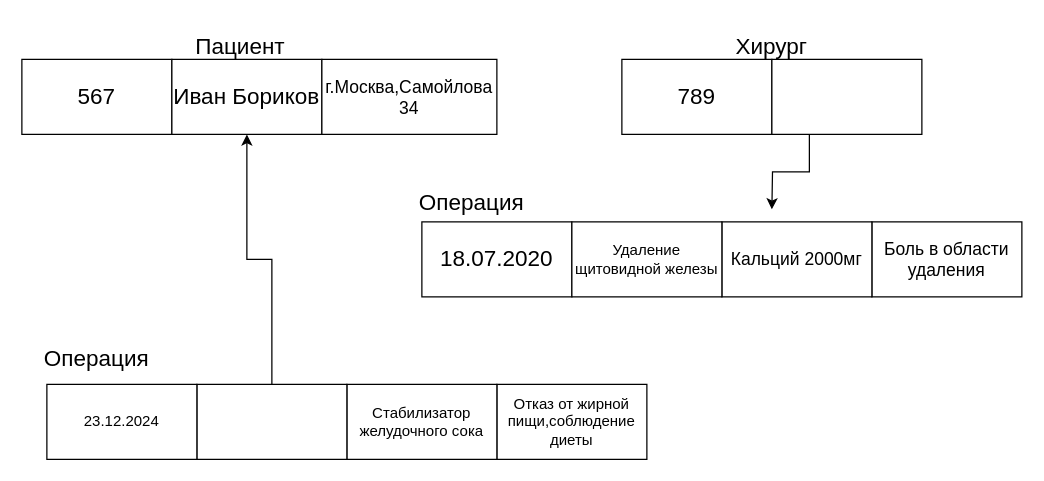
Some shapes in this 1044 by 481 pixel diagram are drawn without their labels. The shapes that lost their labels are listed below. From the top down, each one's centre as x and y in pixels, then its label:
(x=846, y=96): Александр Мокров
(x=271, y=421): Удаление поджелудочной железы
